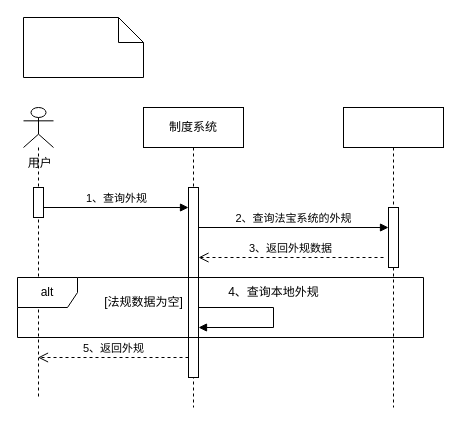
This 461x425 diagram has some shape labels left out. Each missing label, with the box of its shape:
外规查询: (22, 16, 144, 78)
法宝系统: (342, 106, 444, 408)
